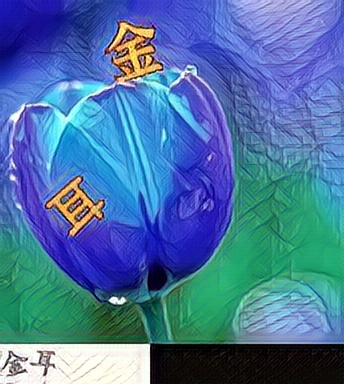B6FA: (43, 173, 105, 237)
BDF0: (100, 18, 162, 82)
